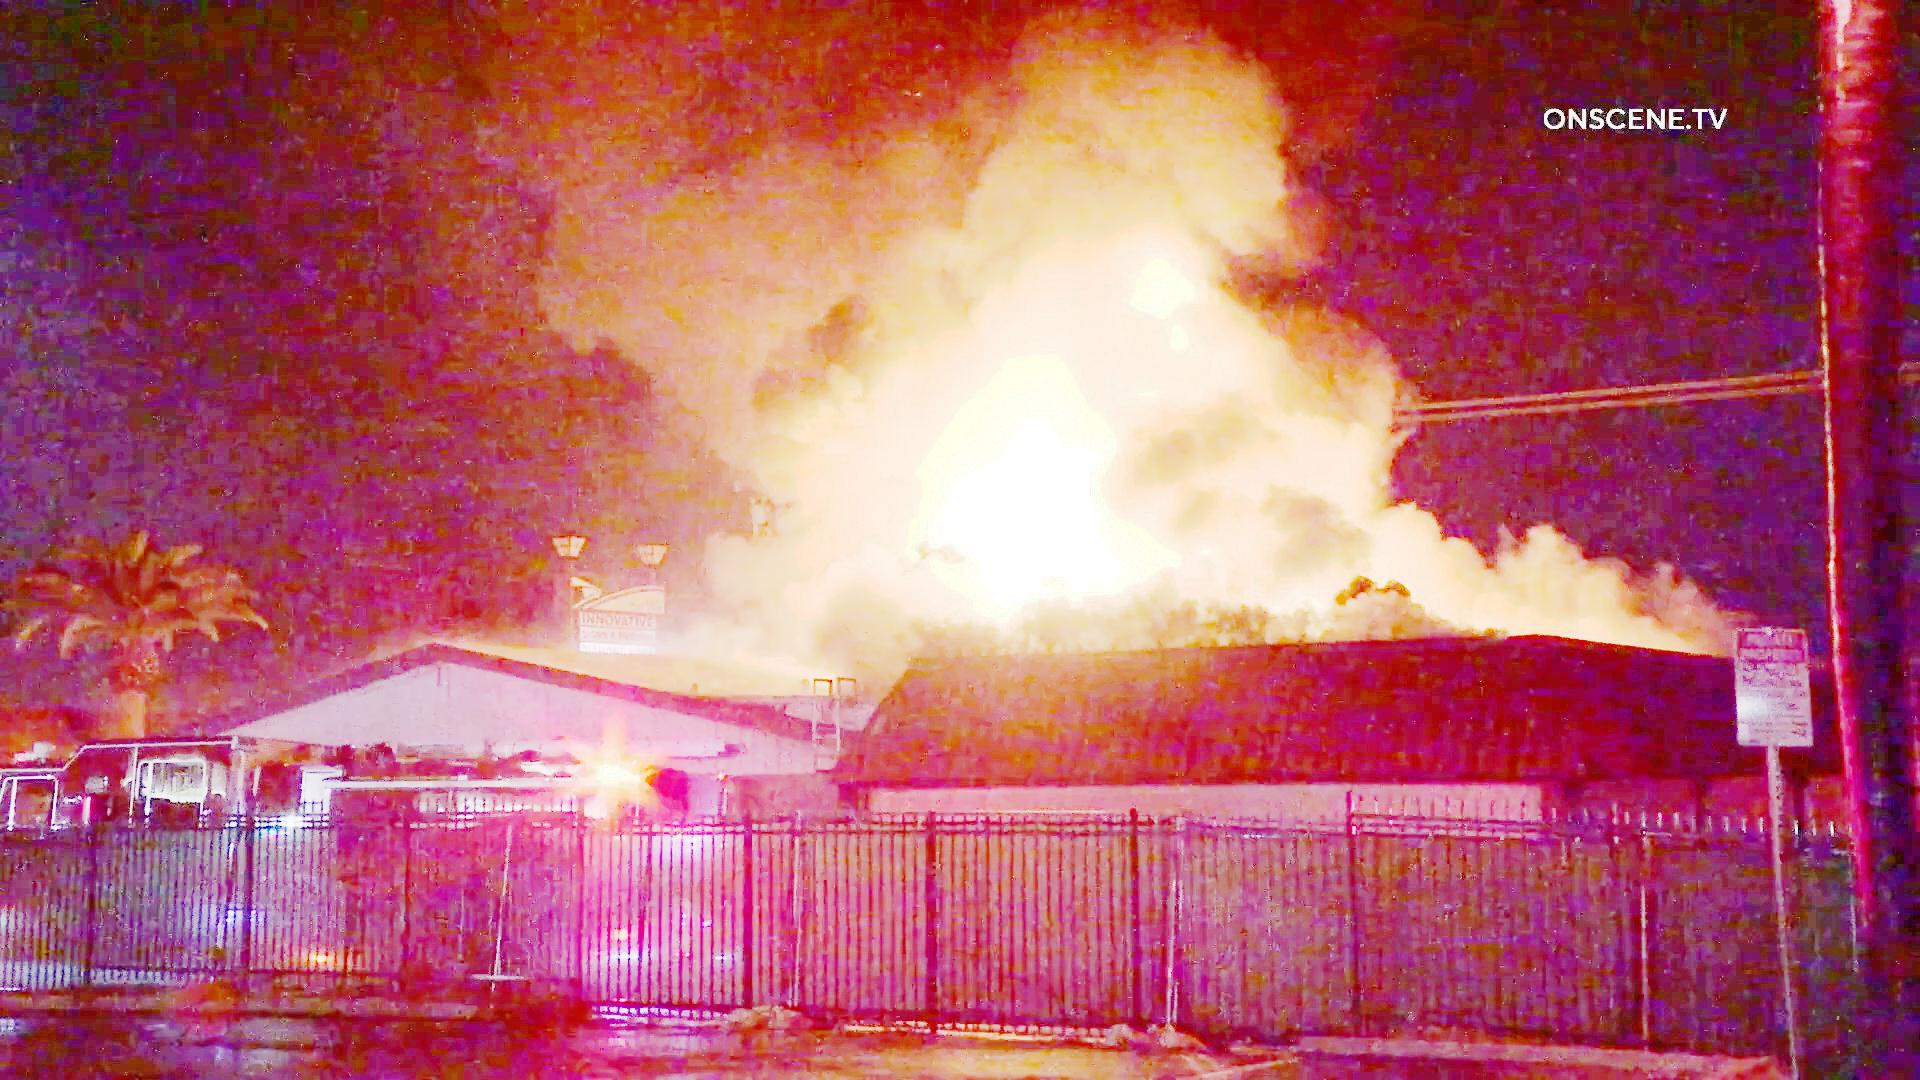fire: (923, 351, 1160, 607)
smoke: (469, 0, 1270, 243), (717, 193, 913, 633), (1175, 294, 1323, 596)
